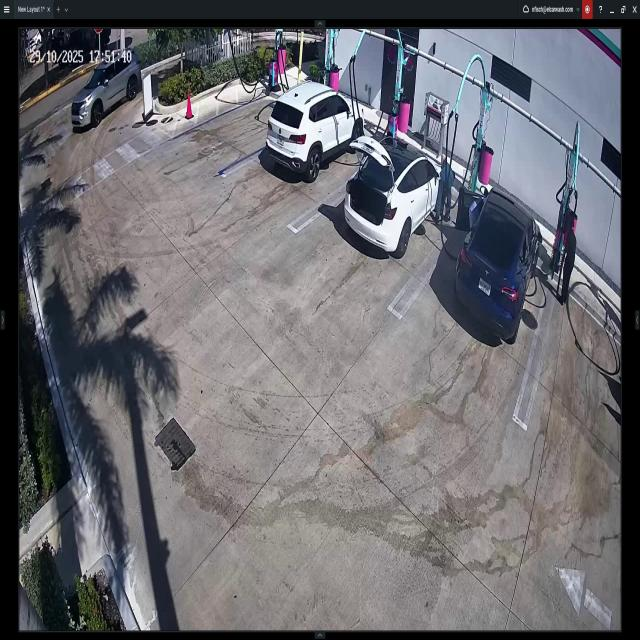Car: (460, 189, 540, 339), (346, 138, 444, 258), (265, 80, 363, 176), (73, 54, 138, 129)
